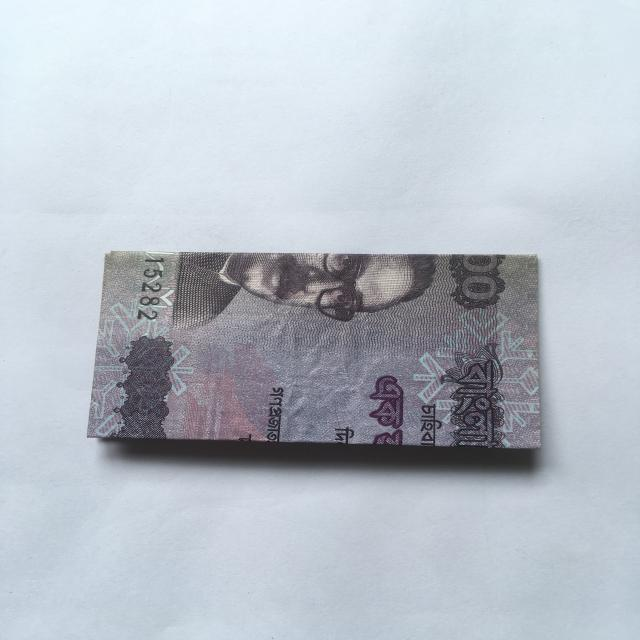Taka: (96, 243, 552, 462)
